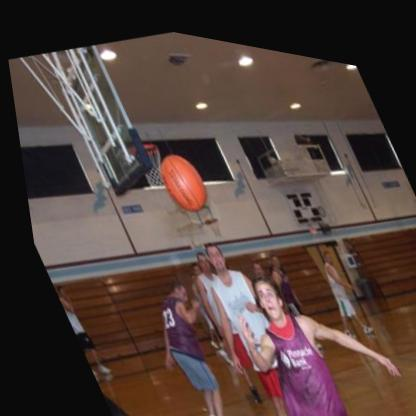basketball: (147, 138, 213, 214)
